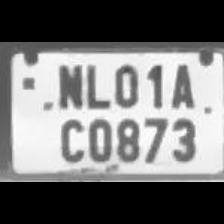0: (84, 112, 114, 164), (110, 60, 140, 108)
1: (141, 60, 167, 110)
3: (168, 111, 198, 163)
7: (139, 114, 167, 164)
8: (114, 112, 140, 164)
A: (166, 59, 196, 111)
C: (54, 112, 85, 164)
L: (83, 60, 109, 110)
N: (52, 59, 83, 109)
